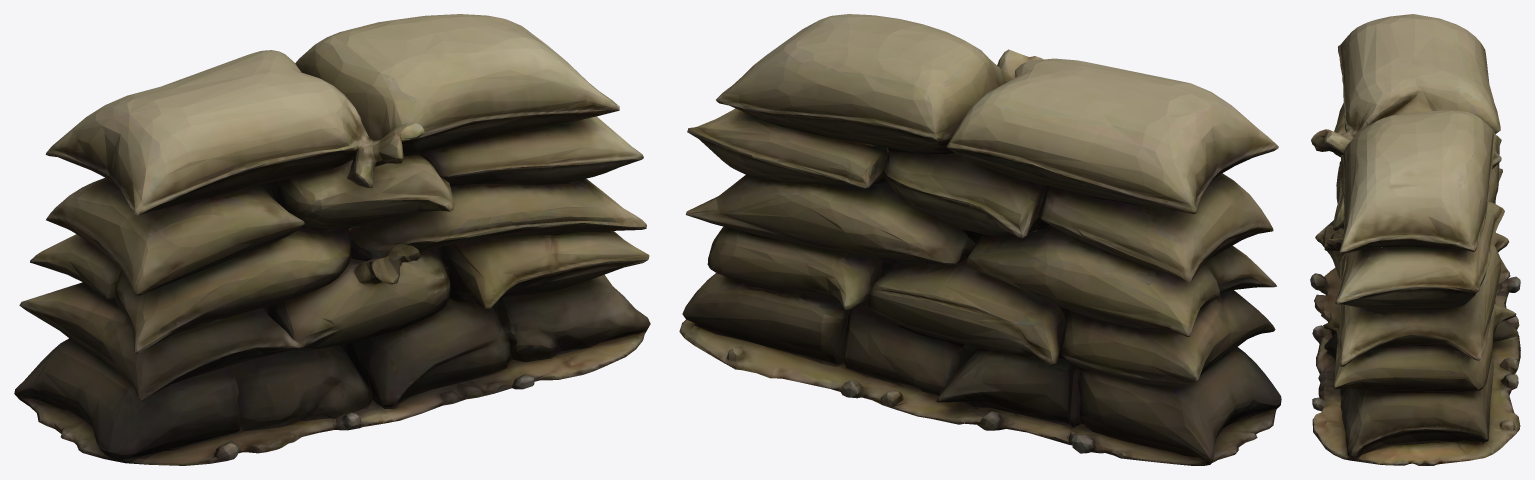
The model's file is sandbags.glb.
3 views of the same model, side by side, from view 1: azimuth 30°, elevation 25°; view 2: azimuth 150°, elevation 25°; view 3: azimuth 270°, elevation 25° (orthographic). The views are drawn at different scales.
Visible parts, largest first — view 1: geometry_0; view 2: geometry_0; view 3: geometry_0.
Part boxes in pixels (bbox=[...]): geometry_0: bbox=[14, 14, 650, 465]; geometry_0: bbox=[679, 14, 1281, 465]; geometry_0: bbox=[1310, 14, 1520, 465].
Size of the model in its own units: 0.9957 by 0.5531 by 0.3974.
1 material, 1 textured.
